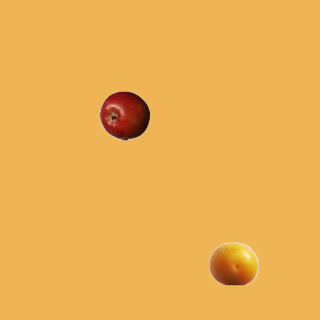Apple Braeburn: (99, 90, 149, 140)
Cherry Wax Yellow: (208, 238, 258, 288)
